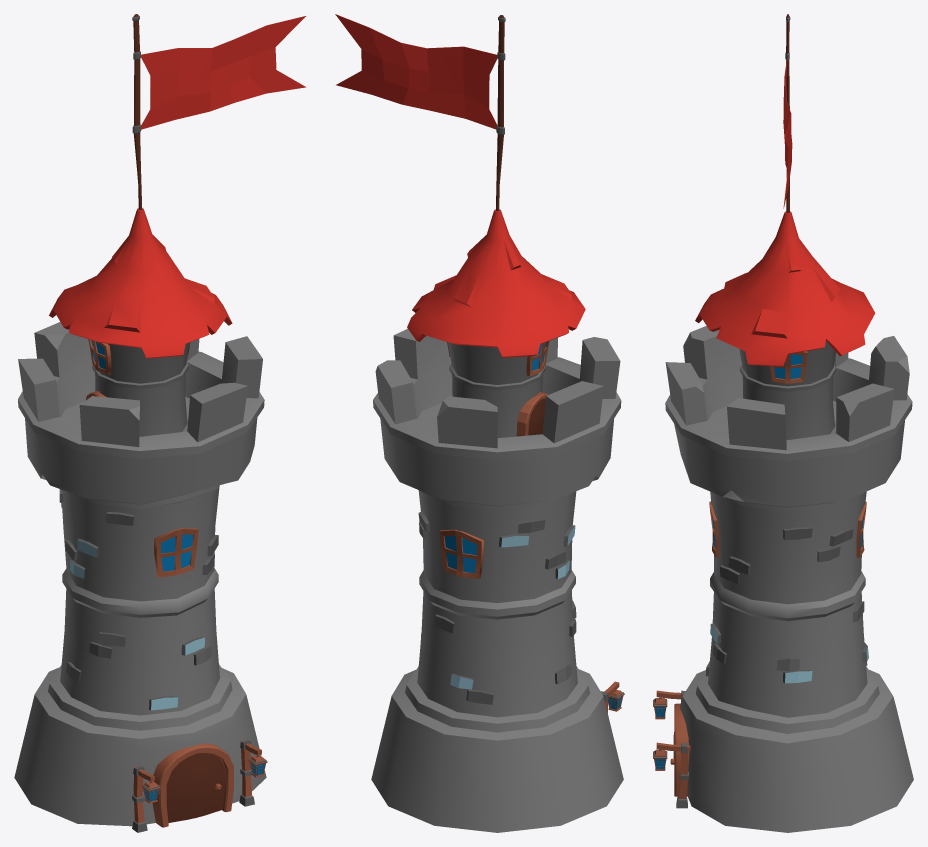
Rendered from Tower.fbx.
The picture shows the model from 3 angles, left to right: view 1: azimuth 30°, elevation 25°; view 2: azimuth 150°, elevation 25°; view 3: azimuth 270°, elevation 25°; orthographic projection.
Parts seen in each view (by area): view 1: Tower; view 2: Tower; view 3: Tower.
Part boxes in pixels (<box>): Tower: <box>14,14,305,832</box>; Tower: <box>335,14,624,832</box>; Tower: <box>653,14,913,832</box>.
Size of the model in its own units: 362 by 968 by 300.
